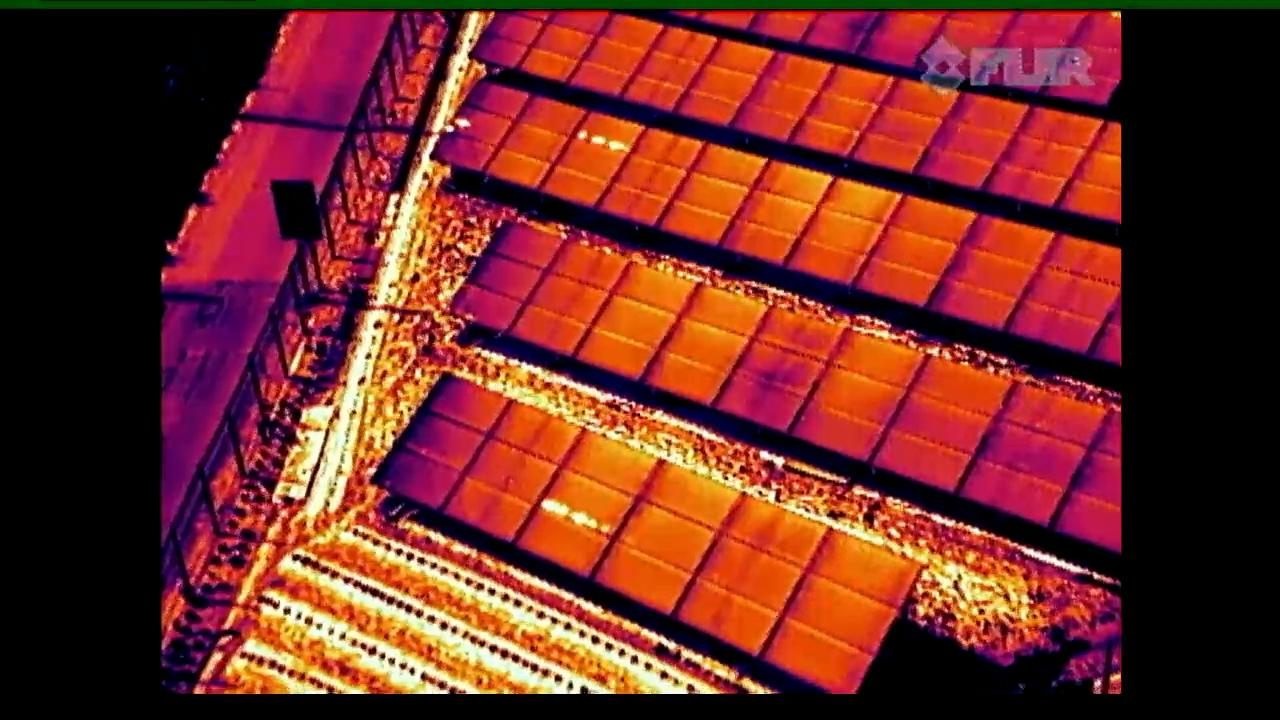hotspot: (512, 426, 662, 583), (535, 107, 649, 207), (422, 78, 526, 170)
